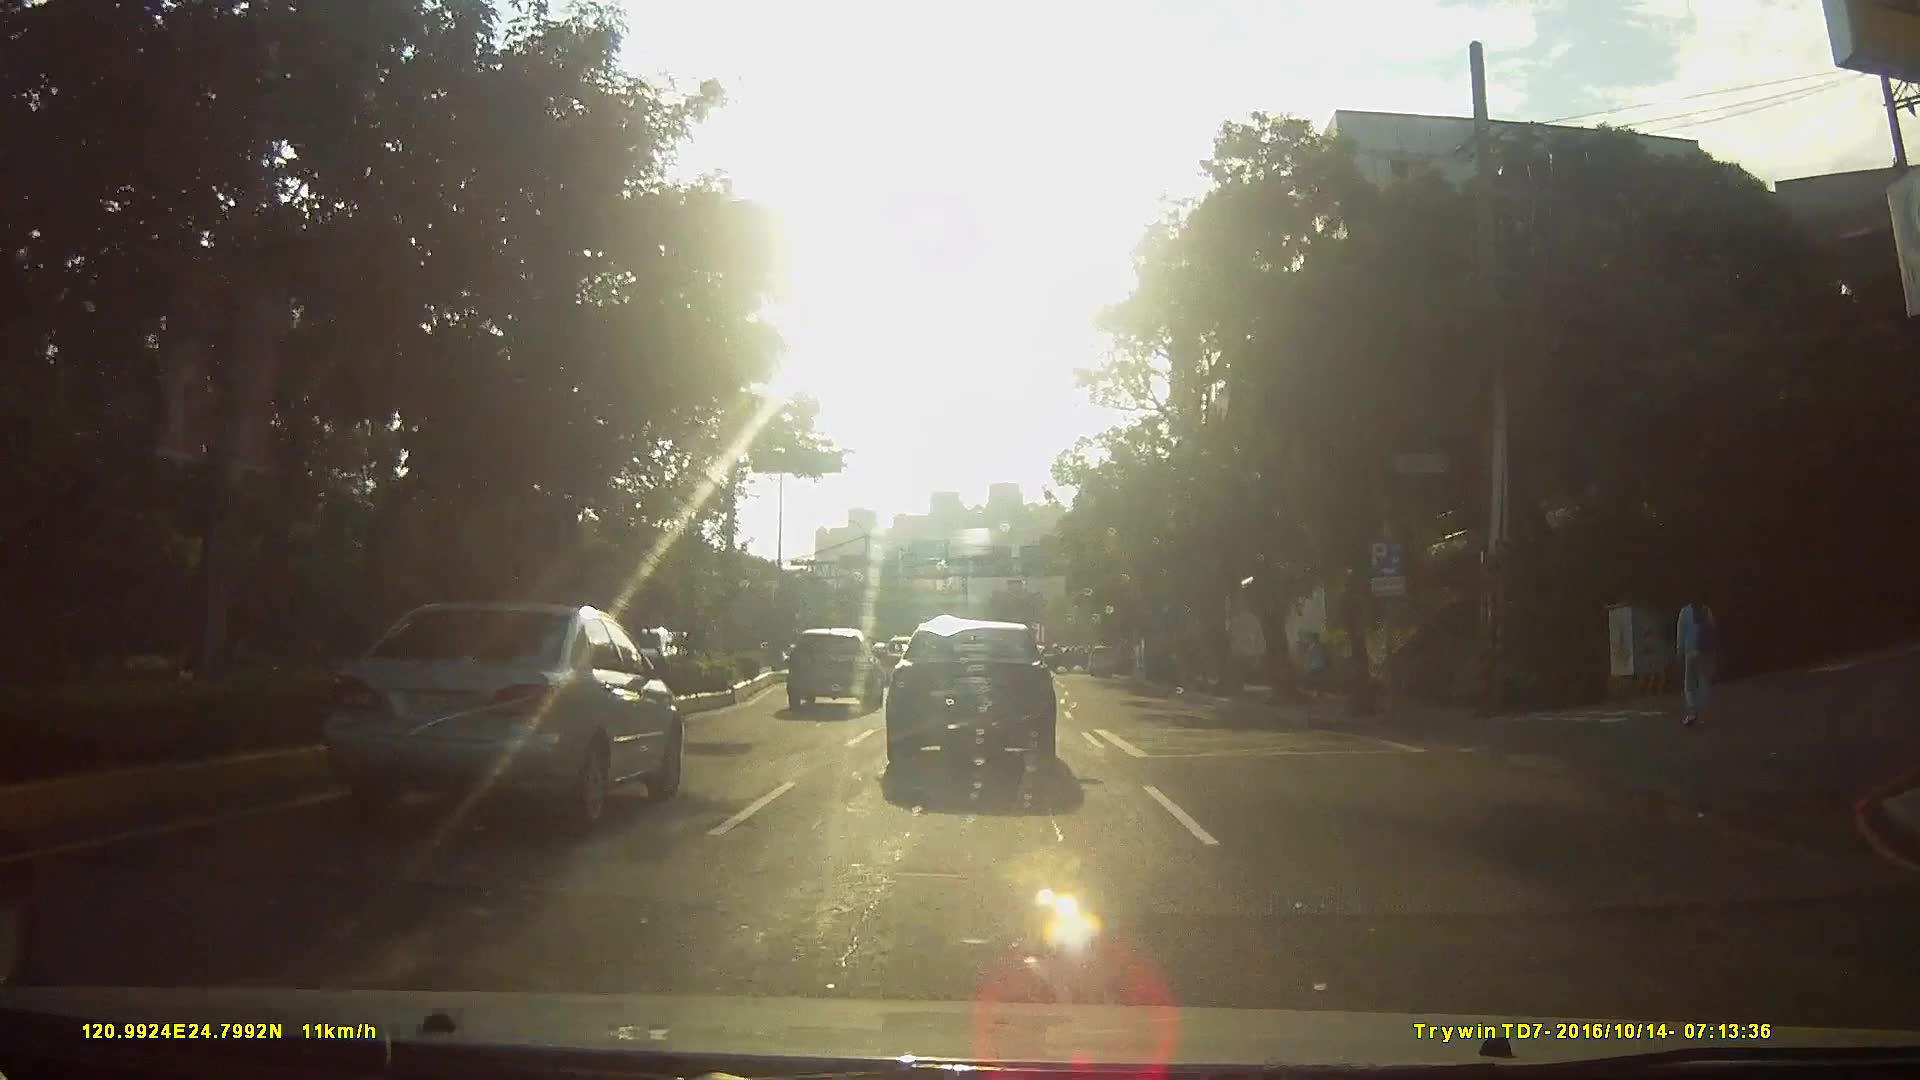pedestrian: (1670, 581, 1726, 730)
vehicle: (317, 598, 686, 824), (874, 616, 1071, 782), (782, 625, 882, 710), (1081, 643, 1116, 677)
